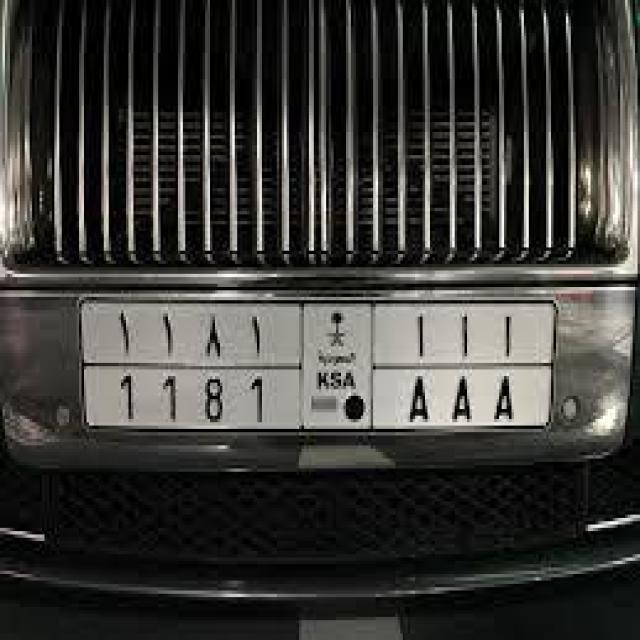license_plate: (15, 241, 618, 468)
